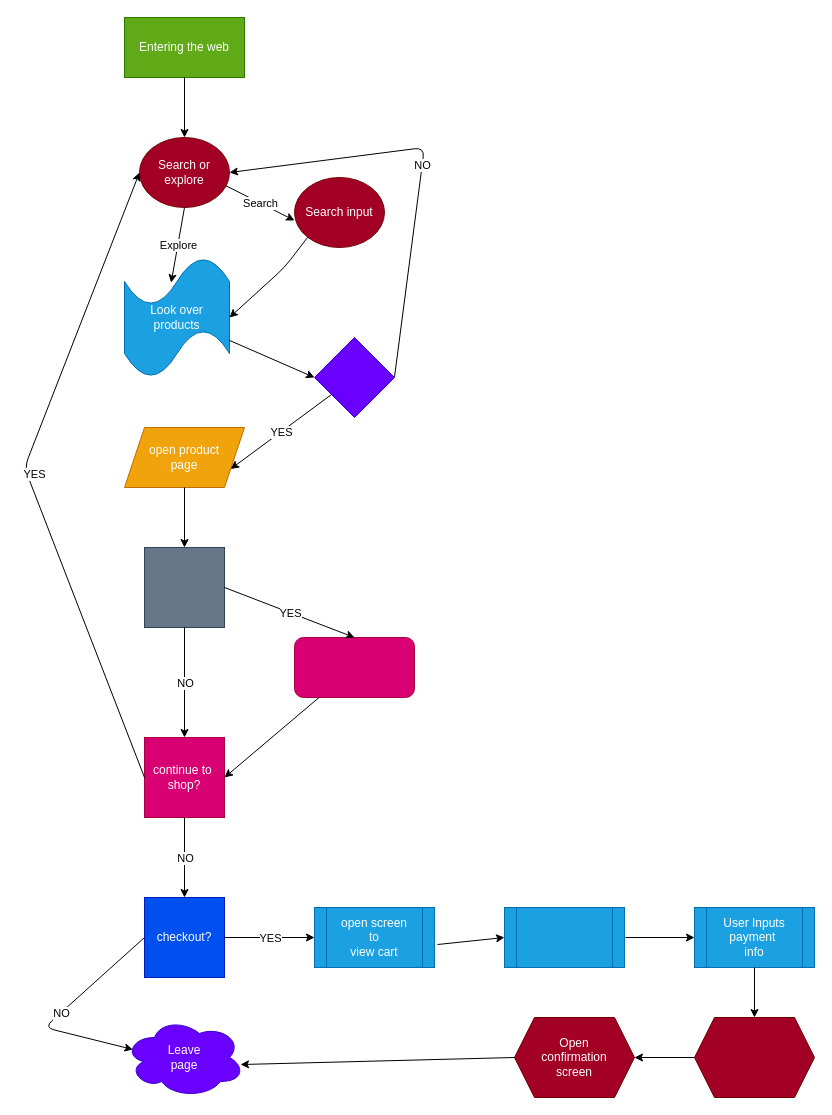
The diagram is 832 pixels wide and 1115 high, and some of its shapes have lost their labels. The box of each missing label's shape, as (x1, y1, x2, y2) in pixels:
add to cart?: (144, 546, 224, 628)
confirmation pop-up: (294, 636, 414, 698)
Open payment screen: (504, 906, 624, 968)
Send out email: (694, 1016, 814, 1098)
Specific product?: (314, 336, 394, 418)
